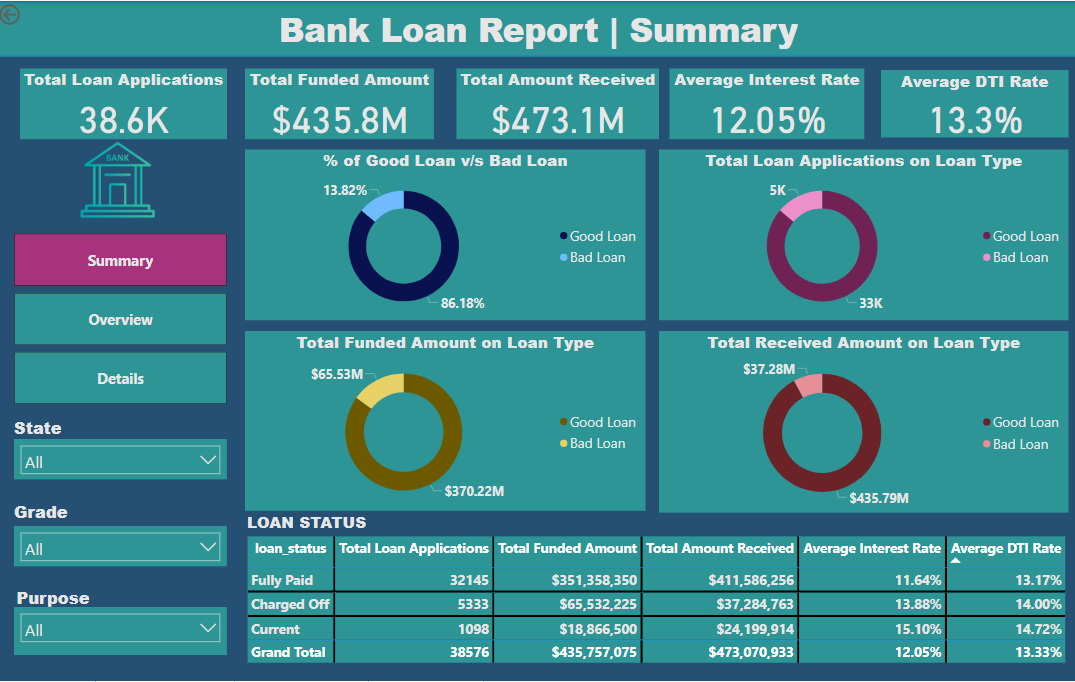

This screenshot's page, from the dashboard's own definition file:
{"tool":"powerbi","page":{"name":"Summary","canvas":[1595,1000],"ordinal":0},"visuals":[{"type":"shape","title":"Bank Loan Report | Summary","box":[0,0,1596,81.7],"z":0},{"type":"card","title":"Total Loan Applications","fields":{"Values":["financial_loan.total app"]},"box":[35.3,99.3,304.6,103.8],"z":1000},{"type":"card","title":"Total Funded Amount","fields":{"Values":["financial_loan.total fund"]},"box":[366.4,99.3,278.1,103.8],"z":2000},{"type":"card","title":"Total Amount Received","fields":{"Values":["Sum(financial_loan.total_payment)"]},"box":[677.7,99.3,298,103.8],"z":3000},{"type":"card","title":"Average DTI Rate","fields":{"Values":["financial_loan.Average DTI Rate"]},"box":[1302.4,101.5,275.9,99.3],"z":4000},{"type":"card","title":"Average Interest Rate","fields":{"Values":["financial_loan.avg r"]},"box":[991.2,99.3,287,103.8],"z":5000},{"type":"donutChart","title":"% of Good Loan v/s  Bad Loan ","fields":{"Category":["financial_loan.Loan Type"],"Y":["CountNonNull(financial_loan.loan_status)"]},"box":[366.4,218.5,589.4,251.7],"z":6000},{"type":"donutChart","title":"Total Loan Applications on Loan Type","fields":{"Category":["financial_loan.Loan Type"],"Y":["financial_loan.total app"]},"box":[975.7,218.5,602.6,251.7],"z":7000},{"type":"donutChart","title":"Total Funded Amount on Loan Type","fields":{"Category":["financial_loan.Loan Type"],"Y":["financial_loan.total fund"]},"box":[366.4,485.7,589.4,264.9],"z":8000},{"type":"donutChart","title":"Total Received Amount on Loan Type","fields":{"Category":["financial_loan.Loan Type"],"Y":["Sum(financial_loan.total_payment)"]},"box":[975.7,485.7,602.6,267.1],"z":9000},{"type":"actionButton","box":[0,0,100,40],"z":10000},{"type":"tableEx","title":"LOAN STATUS","fields":{"Values":["financial_loan.loan_status","financial_loan.Total Loan Applications","financial_loan.Total Funded Amount","financial_loan.Total Amount Received","financial_loan.Average Interest Rate","financial_loan.Average DTI Rate"]},"box":[364.2,750.6,1220.8,249.4],"z":11000},{"type":"slicer","title":"State","fields":{"Values":["financial_loan.address_state"]},"box":[26.5,644.6,313.5,59.6],"z":12000},{"type":"shape","box":[26.5,609.3,121.4,35.3],"z":13000},{"type":"slicer","title":"State","fields":{"Values":["financial_loan.grade"]},"box":[26.5,772.6,313.5,59.6],"z":14000},{"type":"slicer","title":"State","fields":{"Values":["financial_loan.purpose"]},"box":[26.5,891.8,313.5,70.6],"z":15000},{"type":"shape","box":[26.5,732.9,106,35.3],"z":16000},{"type":"shape","box":[26.5,860.9,114.8,30.9],"z":17000},{"type":"pageNavigator","box":[26.5,342.2,313.5,253.9],"z":17001},{"type":"image","box":[99.3,183.2,158.9,158.9],"z":17002}]}

Visuals, with their boxes in screenshot pixels (x1, y1, x2, y2), scaled from the page's 1595x1000 canvas onto the 1075x682 screenshot:
"Bank Loan Report | Summary" shape: (0, 0, 1074, 56)
"Total Loan Applications" card: (24, 68, 229, 139)
"Total Funded Amount" card: (247, 68, 434, 139)
"Total Amount Received" card: (457, 68, 658, 139)
"Average DTI Rate" card: (878, 69, 1064, 137)
"Average Interest Rate" card: (668, 68, 861, 139)
"% of Good Loan v/s  Bad Loan " donutChart: (247, 149, 644, 321)
"Total Loan Applications on Loan Type" donutChart: (658, 149, 1064, 321)
"Total Funded Amount on Loan Type" donutChart: (247, 331, 644, 512)
"Total Received Amount on Loan Type" donutChart: (658, 331, 1064, 513)
actionButton: (0, 0, 67, 27)
"LOAN STATUS" tableEx: (245, 512, 1068, 681)
"State" slicer: (18, 440, 229, 480)
shape: (18, 416, 100, 440)
"State" slicer: (18, 527, 229, 568)
"State" slicer: (18, 608, 229, 656)
shape: (18, 500, 89, 524)
shape: (18, 587, 95, 608)
pageNavigator: (18, 233, 229, 407)
image: (67, 125, 174, 233)
